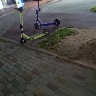beam: (27, 1, 65, 30)
gcooter: (12, 6, 52, 47)
